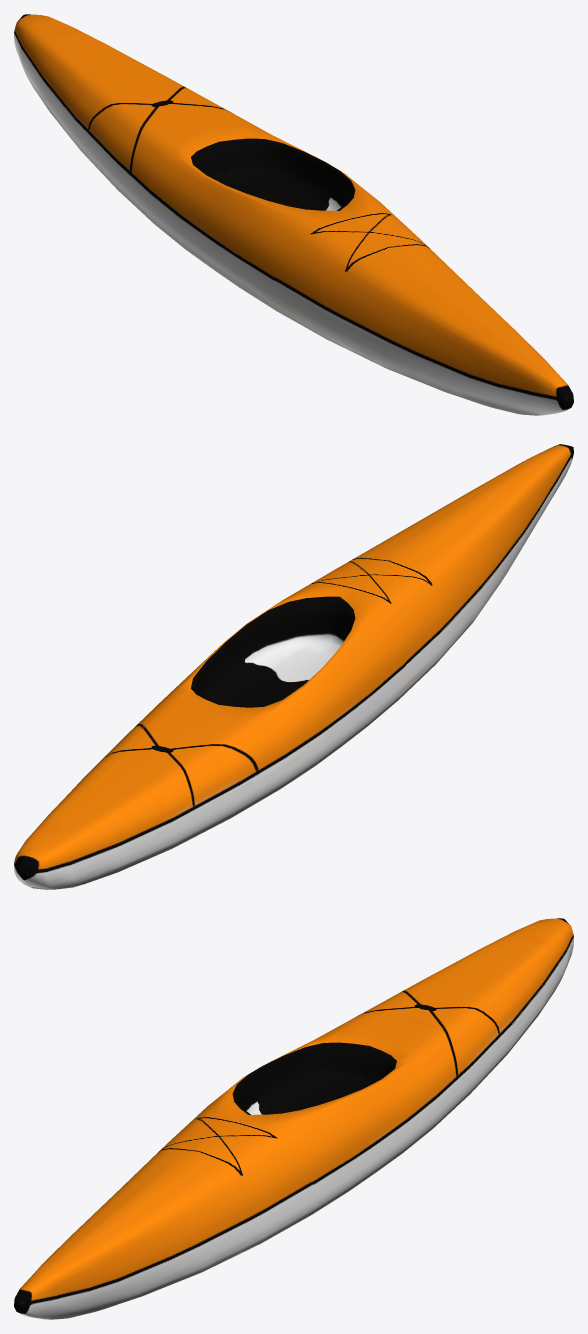
File: touren.fbx
3 views of the same model, one above another, from view 1: azimuth 30°, elevation 25°; view 2: azimuth 150°, elevation 25°; view 3: azimuth 330°, elevation 25° (orthographic).
Visible parts, largest first — view 1: touren; view 2: touren; view 3: touren.
Part boxes in pixels (x1,y1,x2,y2): touren: [14, 14, 573, 415]; touren: [14, 444, 573, 889]; touren: [14, 918, 573, 1319].
Size of the model in its own units: 63.72 by 429 by 39.73.
